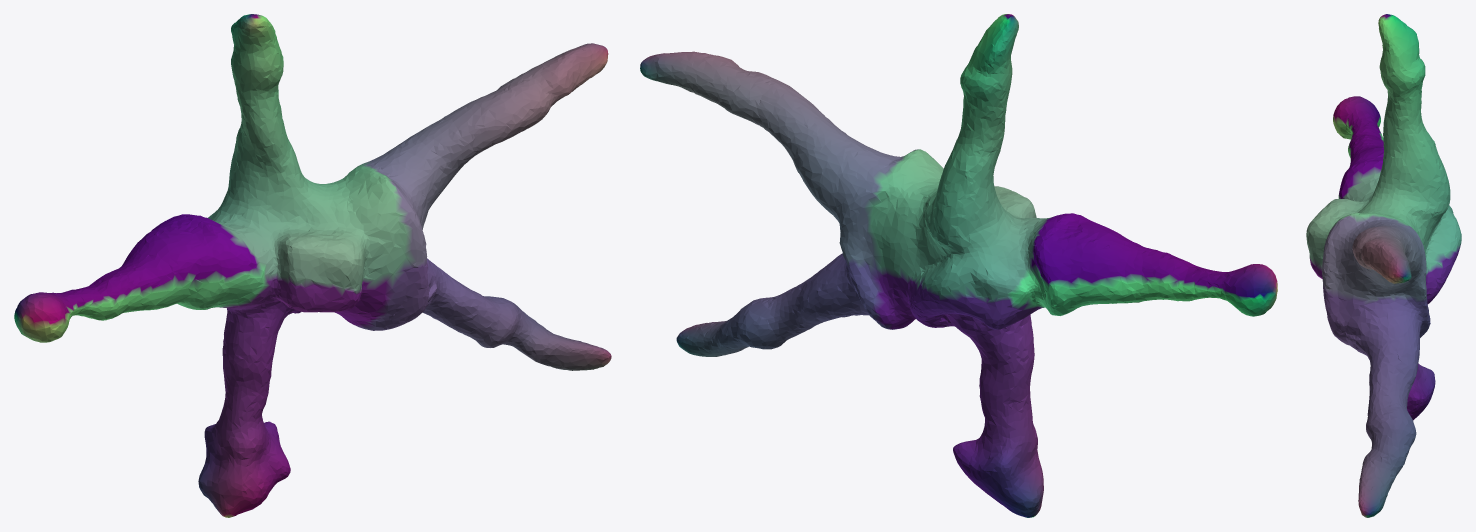
File: santa-11.off.obj
3 views of the same model, side by side, from view 1: azimuth 30°, elevation 25°; view 2: azimuth 150°, elevation 25°; view 3: azimuth 270°, elevation 25° (orthographic). The views are drawn at different scales.
Size of the model in its own units: 1.7 by 1.32 by 0.4389.
